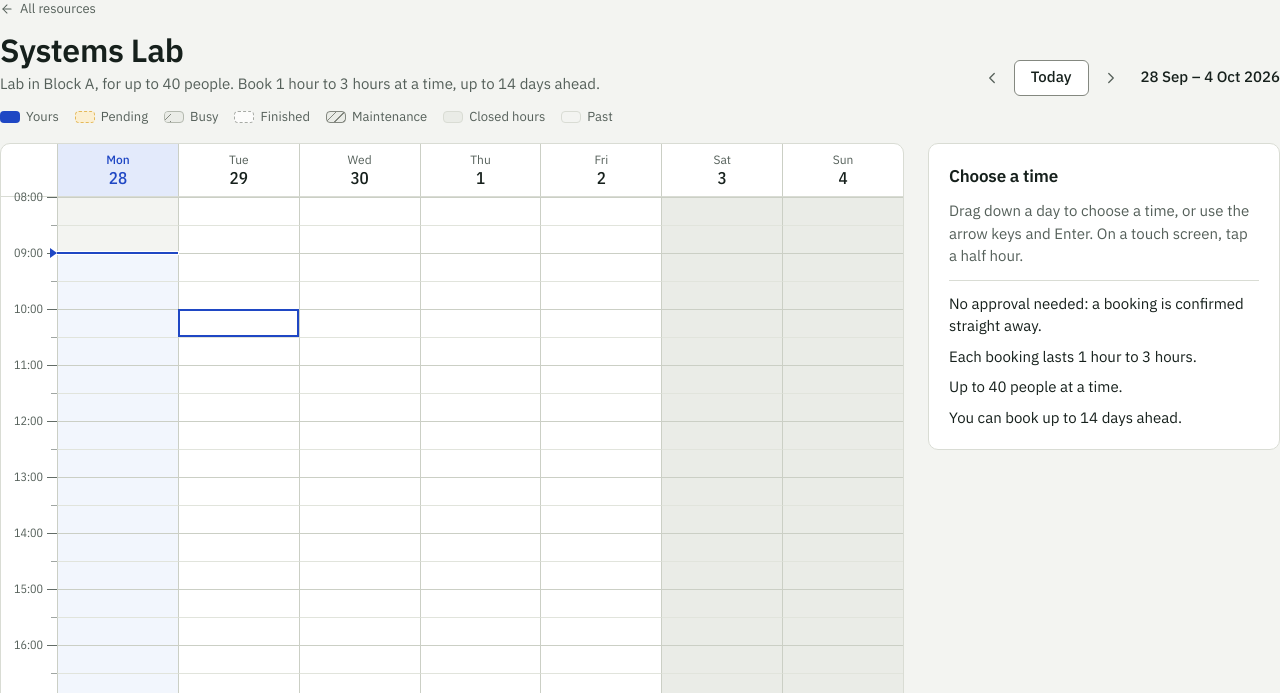
it: booking from the calendar › explains OUTSIDE_HORIZON in one sentence with the resource's limit, and offers no waitlist
Press Enter
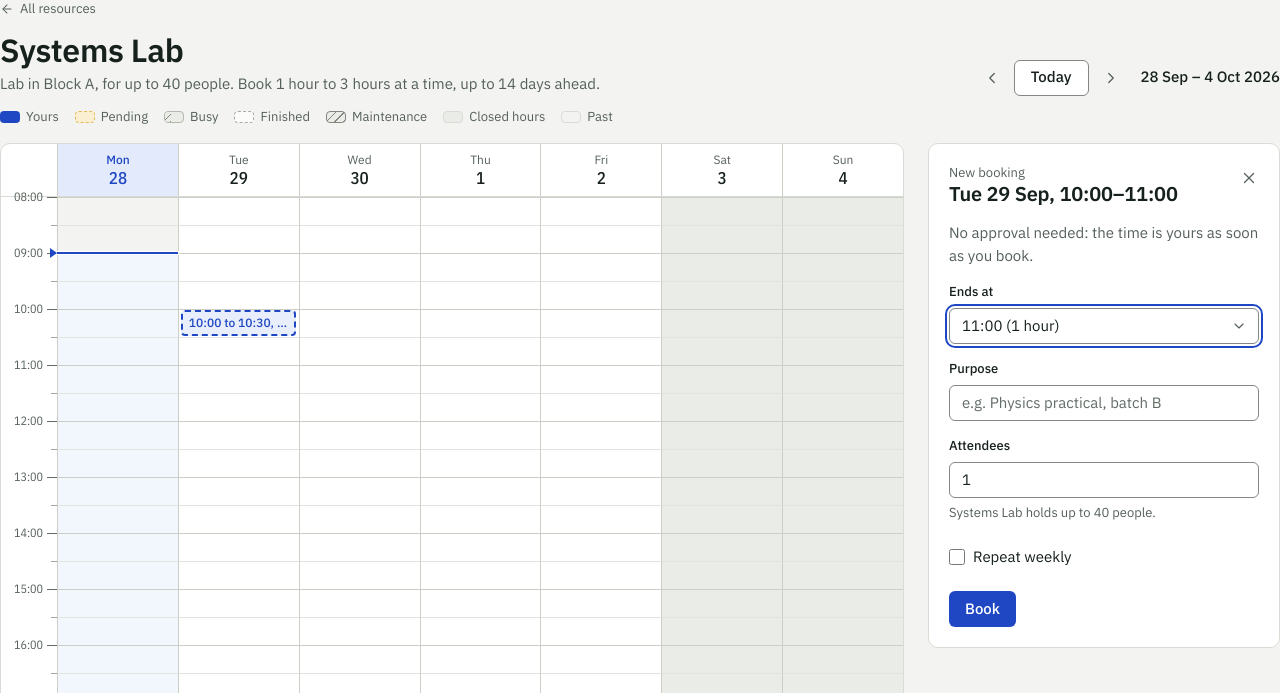
Click the button "Book" at (982, 609), box [949,591,1016,627]
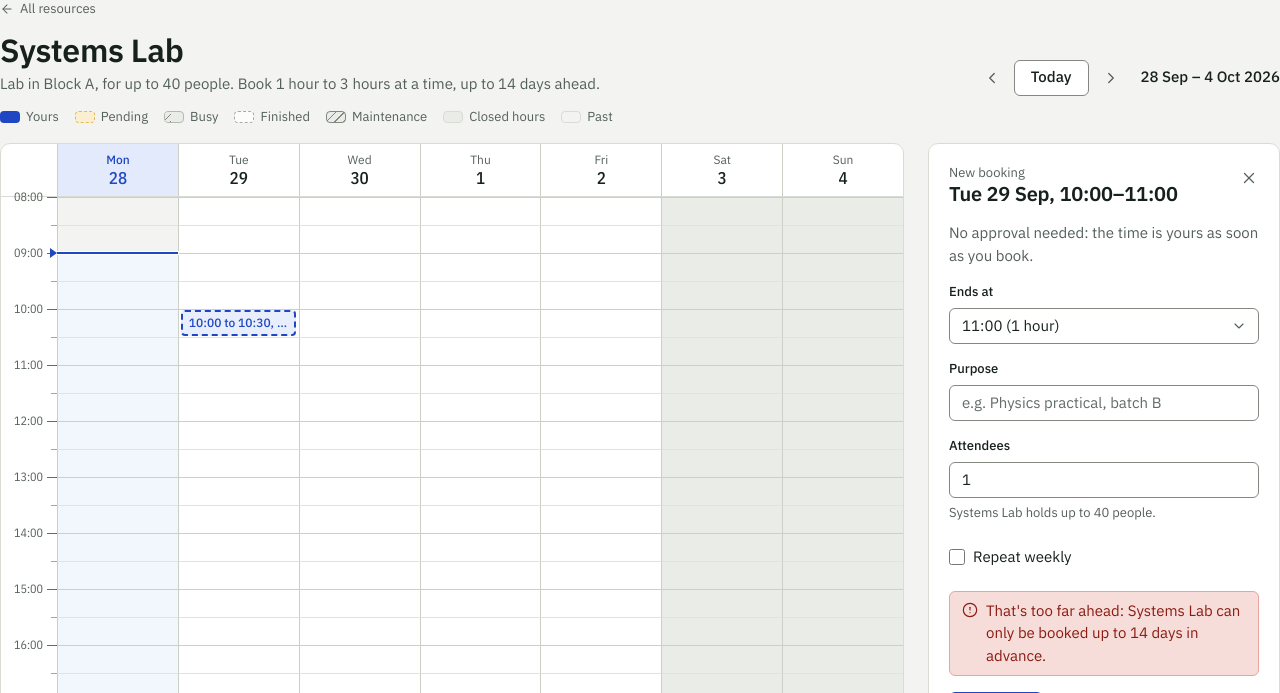
Expected: the text "That's too far ahead: Systems Lab can only be booked up to 14 days in advance." is shown, [986,600,1246,667]
